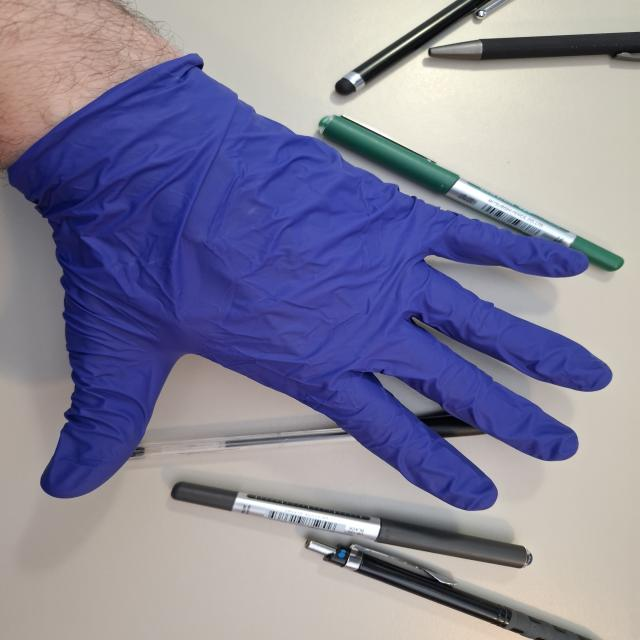glove_on: (4, 53, 616, 514)
